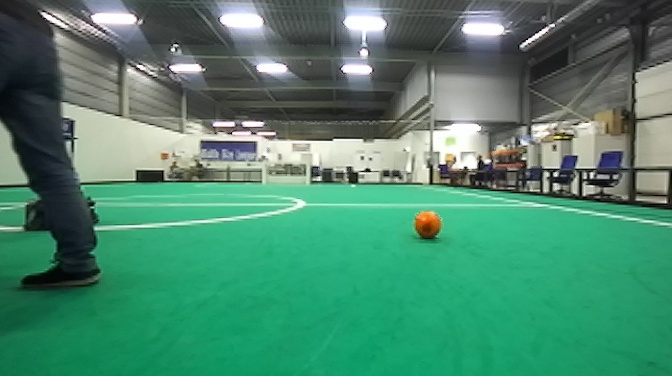ball: (409, 207, 445, 245)
goal: (260, 157, 313, 188)
goalpost: (303, 161, 313, 190), (260, 158, 268, 186)
human_part: (1, 1, 113, 293)
robot: (14, 113, 104, 229)
